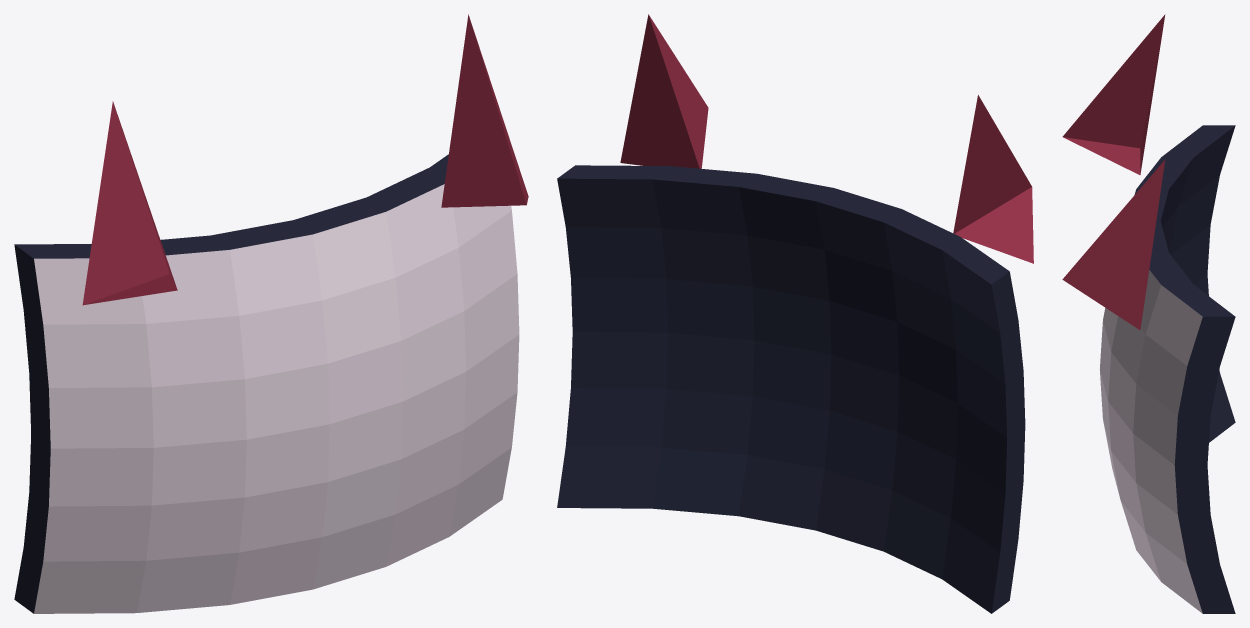
Rendered from mask_KGB_MASK_Kitsune_Wearable_DRAFT_v01.glb.
The picture shows the model from 3 angles, left to right: view 1: azimuth 30°, elevation 25°; view 2: azimuth 150°, elevation 25°; view 3: azimuth 270°, elevation 25°; orthographic projection. The views are drawn at different scales.
Visible parts, largest first — view 1: KGB_MASK_Kitsune_Wearable_DRAFT_v01; view 2: KGB_MASK_Kitsune_Wearable_DRAFT_v01; view 3: KGB_MASK_Kitsune_Wearable_DRAFT_v01.
Boxes of the visible parts, bbox=[...] form: KGB_MASK_Kitsune_Wearable_DRAFT_v01: bbox=[14, 14, 528, 613]; KGB_MASK_Kitsune_Wearable_DRAFT_v01: bbox=[557, 14, 1033, 613]; KGB_MASK_Kitsune_Wearable_DRAFT_v01: bbox=[1062, 14, 1235, 613].
Bounding box in the file's own units: 1.45 × 1.52 × 0.555.
